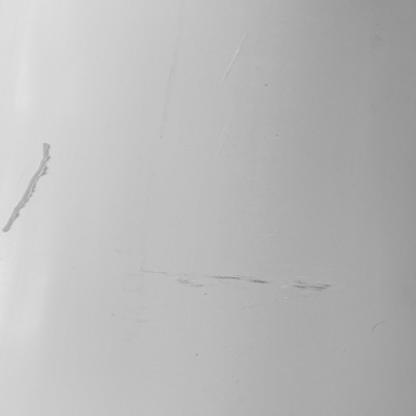sunshang: (154, 265, 325, 294), (1, 143, 57, 230)
